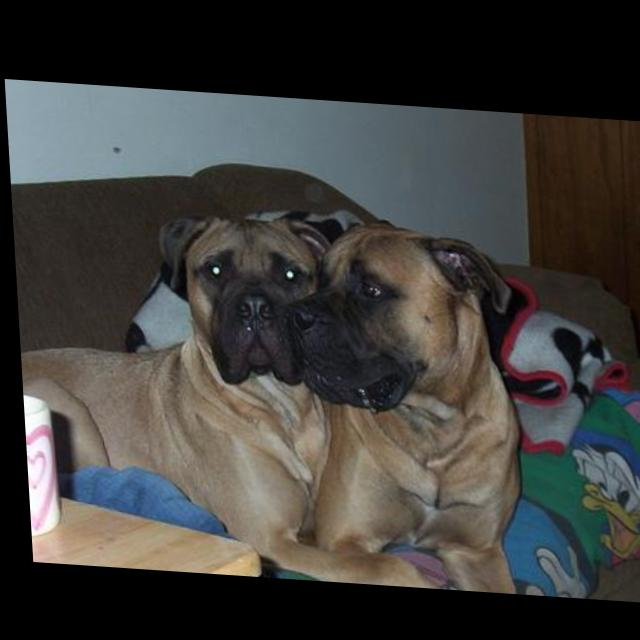bullmastiff: (11, 202, 477, 586), (282, 216, 526, 589)
